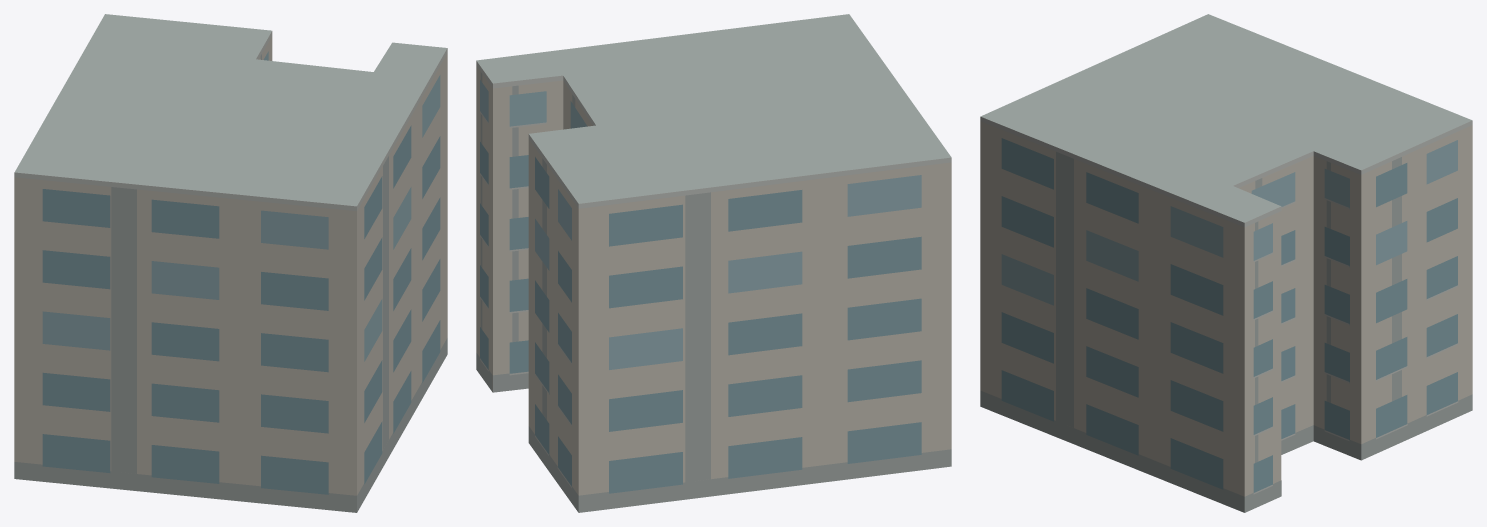
Rendered from survey-upis-32916594.glb.
3 views of the same model, side by side, from view 1: azimuth 30°, elevation 25°; view 2: azimuth 150°, elevation 25°; view 3: azimuth 270°, elevation 25° (orthographic). The views are drawn at different scales.
Visible parts, largest first — view 1: survey-upis-32916594.tmp; view 2: survey-upis-32916594.tmp; view 3: survey-upis-32916594.tmp.
Part boxes in pixels (<box>): survey-upis-32916594.tmp: <box>14,14,447,512</box>; survey-upis-32916594.tmp: <box>476,14,951,512</box>; survey-upis-32916594.tmp: <box>980,14,1472,512</box>.
Size of the model in its own units: 23.71 by 15.35 by 23.62.
